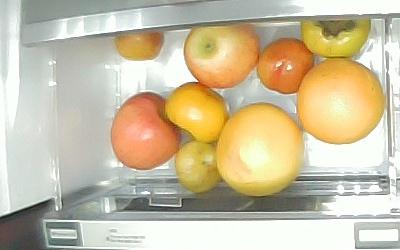apple: (111, 91, 180, 171), (182, 22, 258, 88)
grapefruit: (214, 101, 303, 196), (297, 58, 383, 144)
persimmon: (165, 81, 230, 142), (301, 17, 371, 56)
prune: (257, 37, 314, 95), (175, 140, 220, 194), (114, 30, 164, 62)
